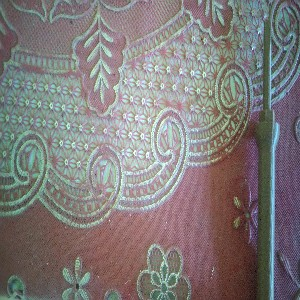obeng: (252, 18, 281, 300)
